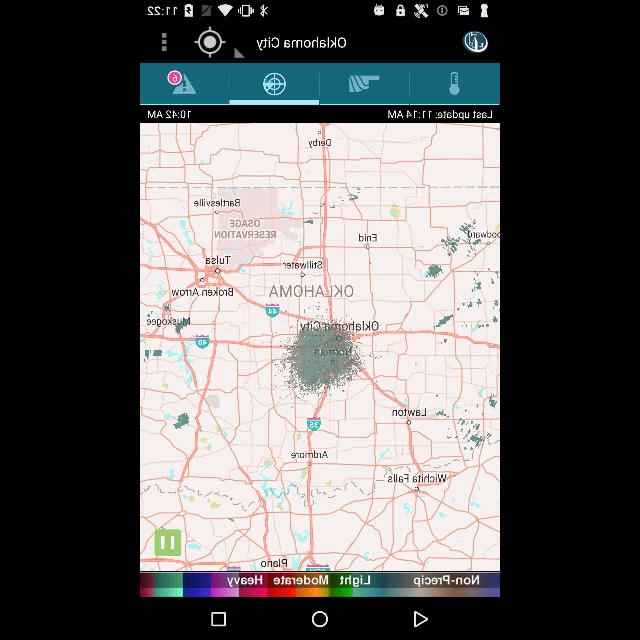icon: (192, 25, 225, 57), (168, 72, 200, 96), (348, 75, 382, 93), (262, 72, 286, 96), (446, 72, 464, 96), (412, 610, 430, 628), (311, 610, 329, 628), (158, 534, 176, 552), (210, 610, 227, 628), (158, 31, 170, 53)
image: (462, 30, 490, 54)
map: (141, 122, 499, 570)
multitab: (140, 64, 500, 104)
panel: (142, 598, 498, 640)
text: (225, 574, 372, 588), (383, 108, 493, 120), (412, 575, 481, 587), (144, 109, 192, 121)
textbutton: (234, 36, 348, 58)
toolbar: (140, 21, 498, 64)
uppertaskbar: (141, 1, 499, 19)
